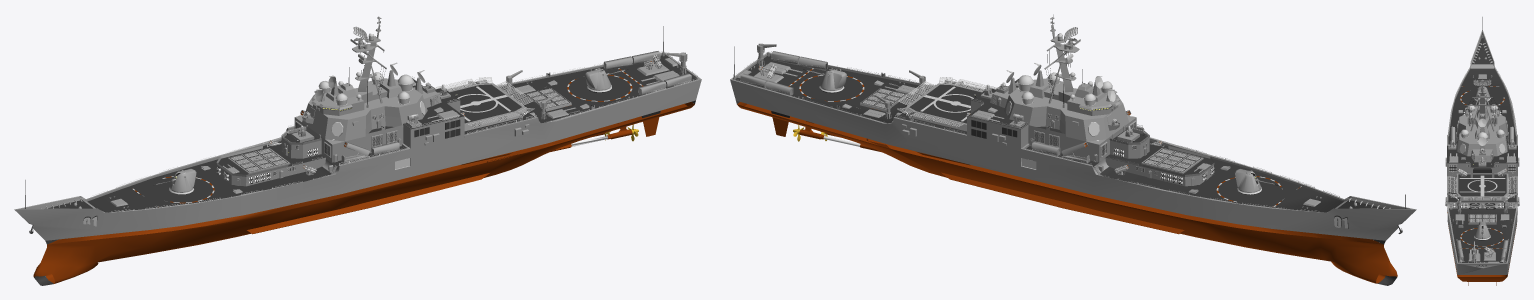
The model's file is hawaii_lite.glb.
3 renders of one model, left to right at view 1: azimuth 30°, elevation 25°; view 2: azimuth 150°, elevation 25°; view 3: azimuth 270°, elevation 25°, orthographic. The views are drawn at different scales.
Visible parts, largest first — view 1: Cube_Hull_0, Circle_HullRed.001_0, Cube_Hull_Dark_0, AN/SPY_1_Hull_Light_0, LifeRaft.001_Hull.005_0; view 2: Cube_Hull_0, Circle_HullRed.001_0, Cube_Hull_Dark_0, AN/SPY_1_Hull_Light_0, LifeRaft.001_Hull.005_0; view 3: Cube_Hull_0, Cube_Hull_Dark_0, AN/SPY_1_Hull_Light_0, Circle_HullRed.001_0, LifeRaft.001_Hull.005_0, RIBB.002_HullBlack.001_0, LifeRaft.001_HullDark.002_0, Cube.009__0.
Boxes of the visible parts, left/top/right/bottom form: Cube_Hull_0: left=14, top=16, right=701, bottom=240; Circle_HullRed.001_0: left=33, top=61, right=694, bottom=283; Cube_Hull_Dark_0: left=25, top=26, right=696, bottom=285; AN/SPY_1_Hull_Light_0: left=83, top=33, right=662, bottom=226; LifeRaft.001_Hull.005_0: left=92, top=51, right=698, bottom=212; Cube_Hull_0: left=730, top=14, right=1416, bottom=240; Circle_HullRed.001_0: left=737, top=66, right=1397, bottom=283; Cube_Hull_Dark_0: left=733, top=46, right=1405, bottom=285; AN/SPY_1_Hull_Light_0: left=758, top=33, right=1347, bottom=228; LifeRaft.001_Hull.005_0: left=733, top=51, right=1339, bottom=212; Cube_Hull_0: left=1445, top=30, right=1519, bottom=274; Cube_Hull_Dark_0: left=1447, top=17, right=1517, bottom=268; AN/SPY_1_Hull_Light_0: left=1448, top=86, right=1516, bottom=266; Circle_HullRed.001_0: left=1447, top=86, right=1516, bottom=285; LifeRaft.001_Hull.005_0: left=1448, top=74, right=1517, bottom=262; RIBB.002_HullBlack.001_0: left=1469, top=203, right=1495, bottom=209; LifeRaft.001_HullDark.002_0: left=1453, top=99, right=1511, bottom=207; Cube.009__0: left=1469, top=43, right=1496, bottom=117.
Size of the model in its own units: 4.99 by 1.35 by 0.7079.
